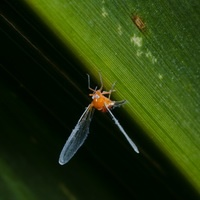insect: (59, 73, 138, 164)
